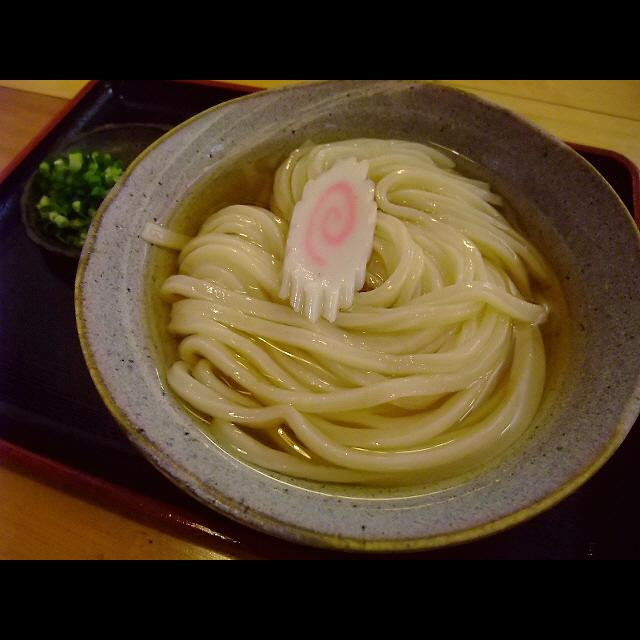noodles: (141, 138, 563, 488)
